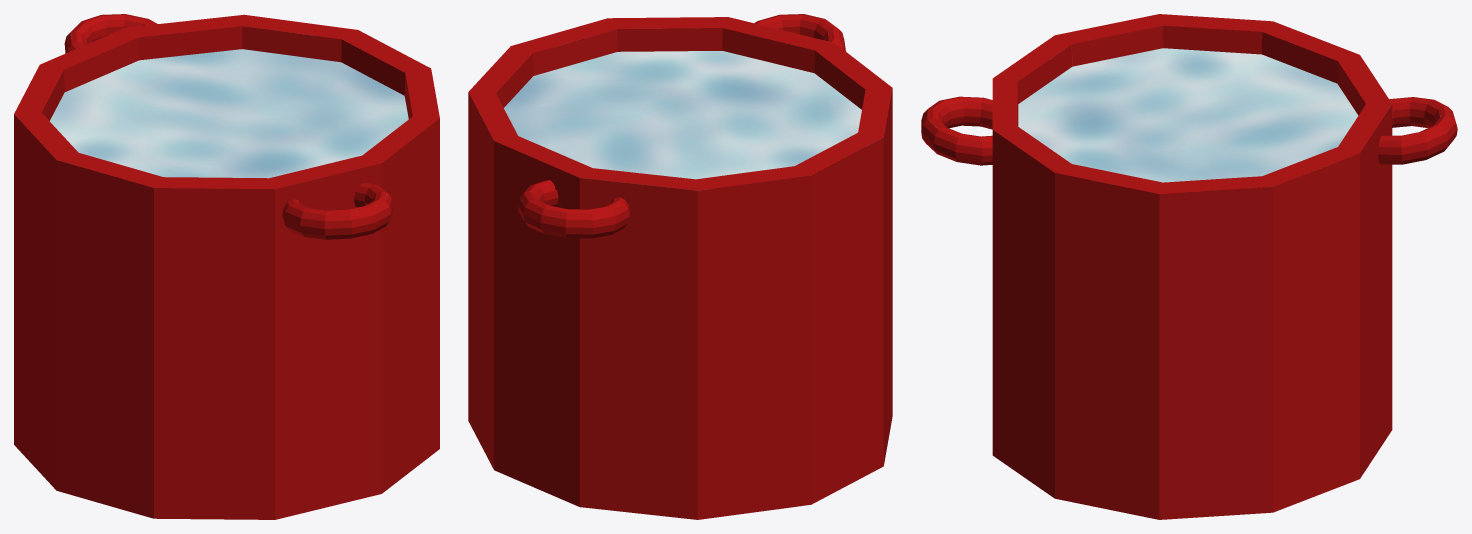
File: OLLAagua.fbx
3 renders of one model, left to right at view 1: azimuth 30°, elevation 25°; view 2: azimuth 150°, elevation 25°; view 3: azimuth 270°, elevation 25°, orthographic.
Visible parts, largest first — view 1: Cylinder, Cylinder.001, Torus.001, Torus; view 2: Cylinder, Cylinder.001, Torus, Torus.001; view 3: Cylinder, Cylinder.001, Torus.001, Torus.
Boxes of the visible parts, x1,y1,x2,y2 form: Cylinder: [14, 14, 439, 519]; Cylinder.001: [49, 49, 408, 178]; Torus.001: [282, 182, 393, 239]; Torus: [64, 14, 157, 53]; Cylinder: [468, 17, 892, 519]; Cylinder.001: [504, 51, 861, 179]; Torus: [517, 180, 629, 238]; Torus.001: [754, 14, 845, 51]; Cylinder: [992, 14, 1392, 519]; Cylinder.001: [1018, 48, 1358, 182]; Torus.001: [921, 96, 992, 165]; Torus: [1378, 97, 1457, 164].
Size of the model in its own units: 143 by 120 by 180.
4 materials, 4 textured.
